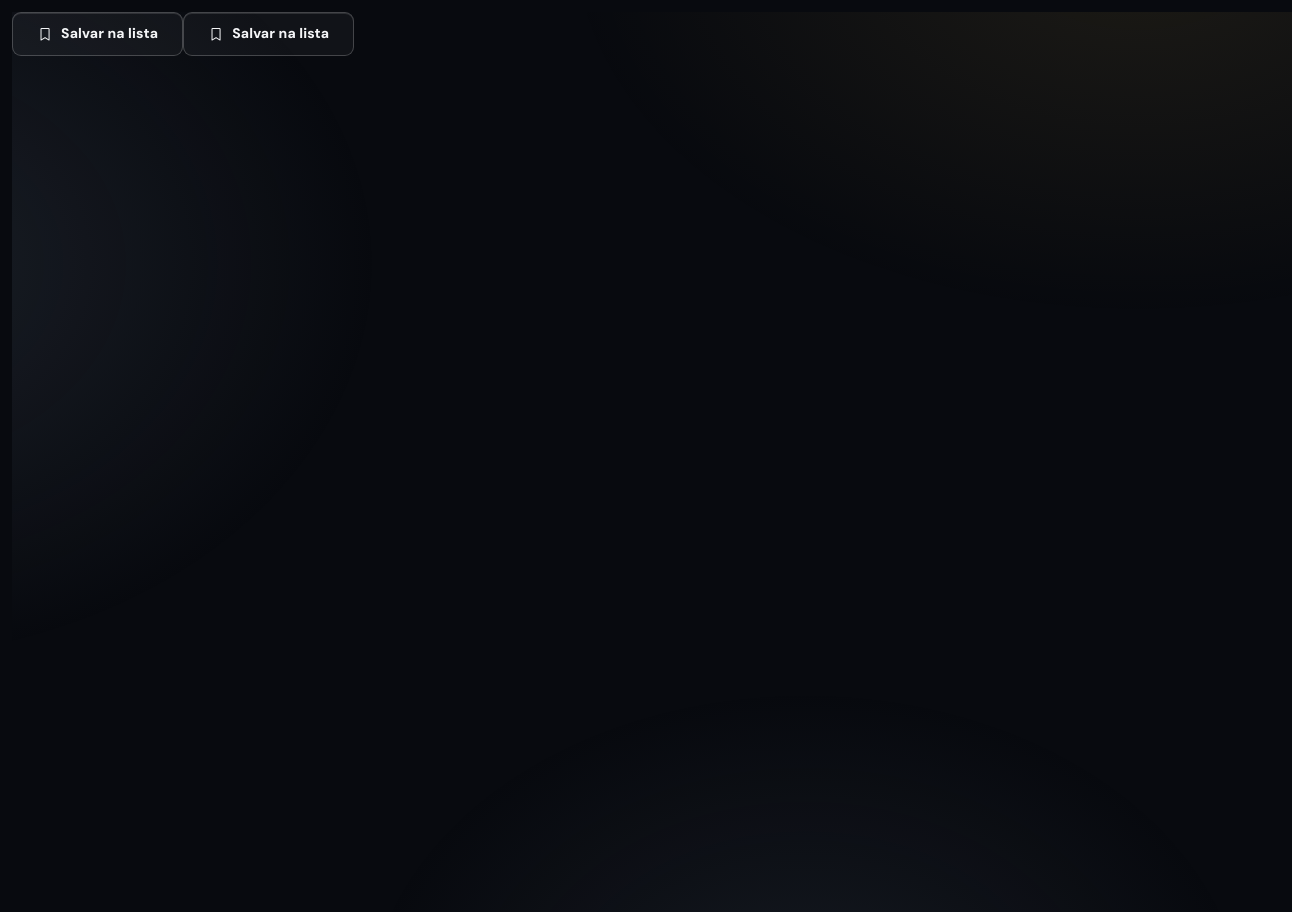
Scenario: SaveButton › salva, avisa, remove e desfaz devolvendo a lista na mesma ordem
Later steps or results of the test are not shown.
Click the 1st button "Salvar na lista" at coordinates (98, 34), box [12,12,183,56]
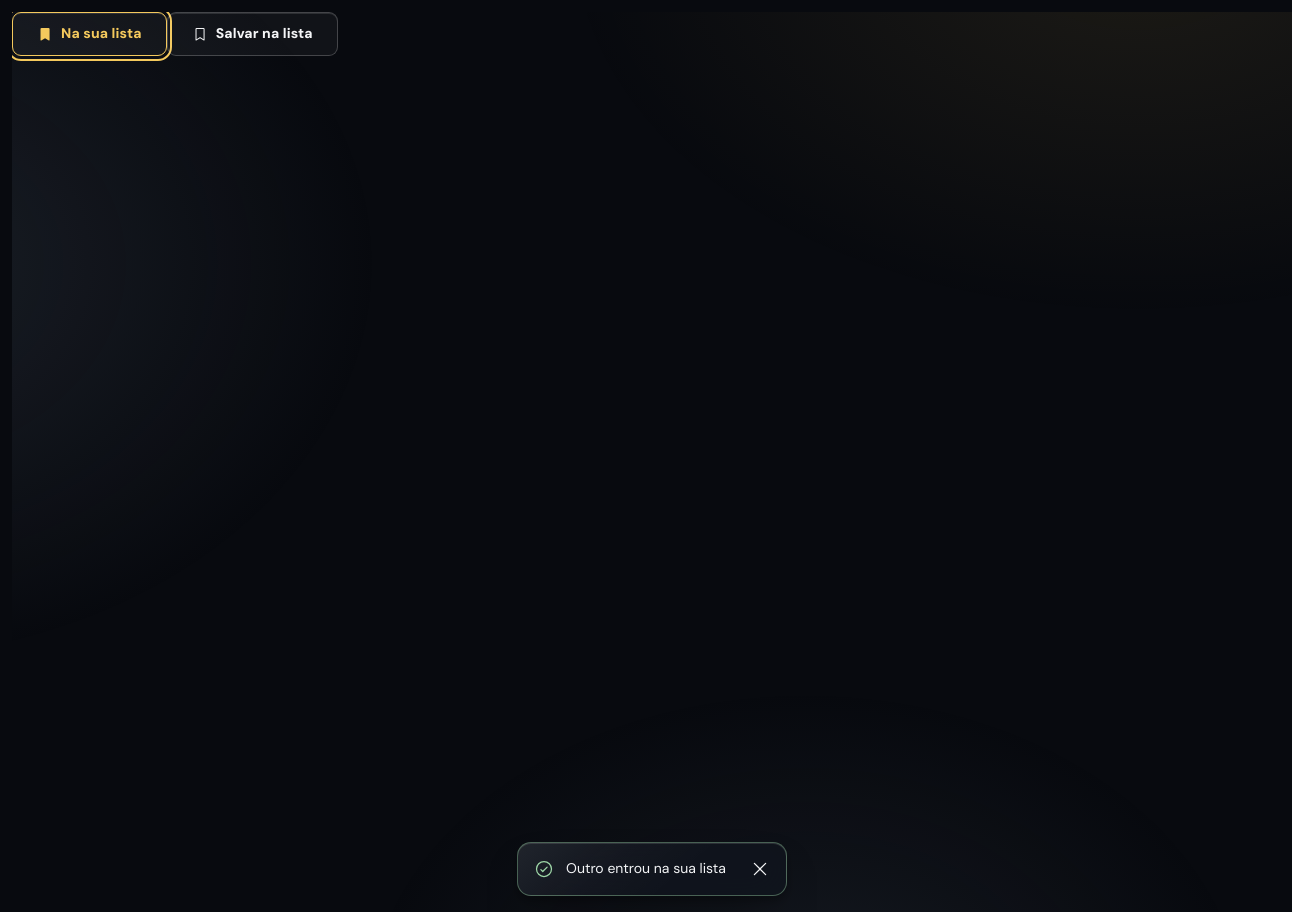
Click the button "Salvar na lista" at coordinates (252, 34), box [167,12,338,56]
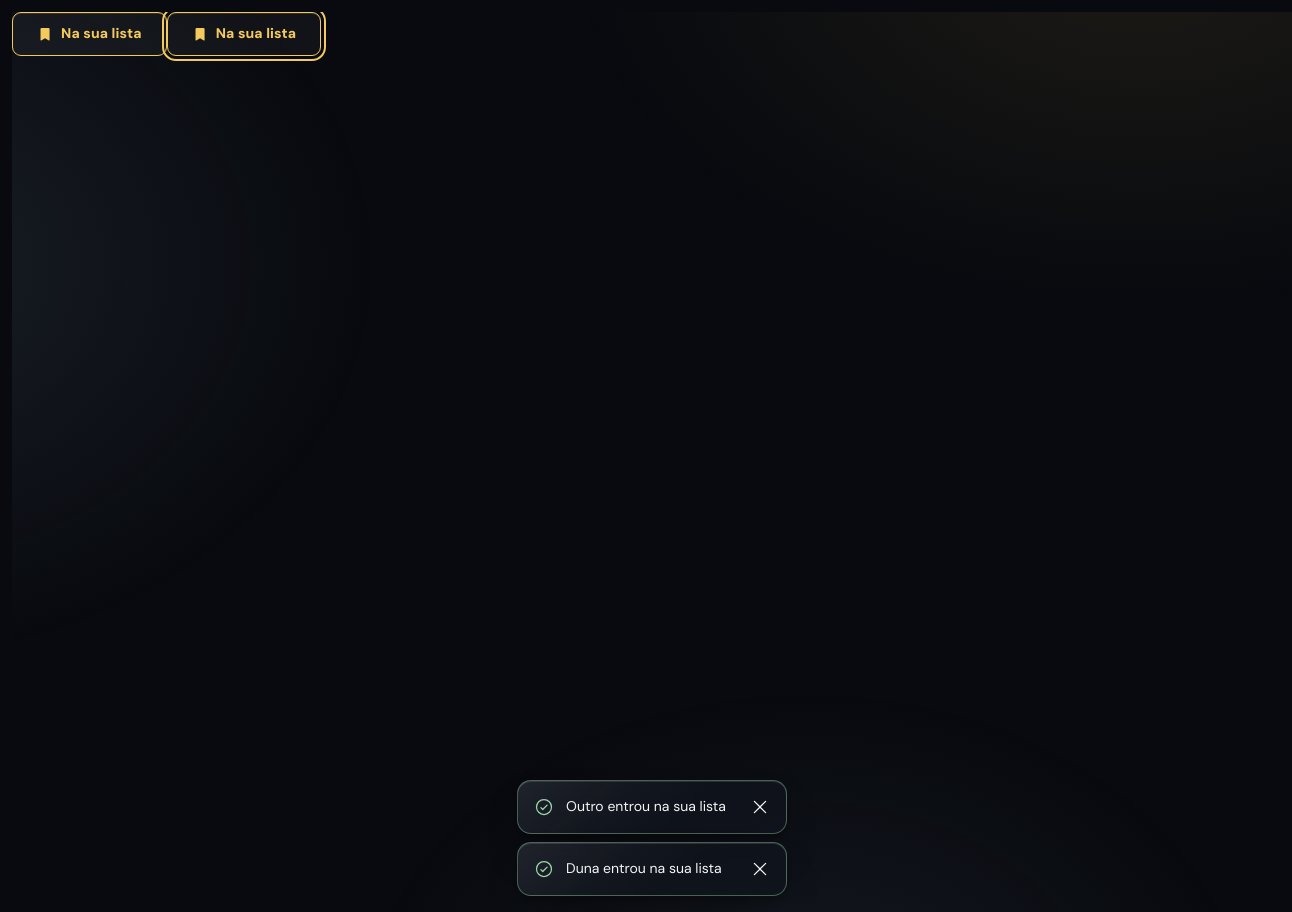
Expected: the message shows "Duna entrou na sua lista", [566,859,722,877]
Click the 2nd button "Na sua lista" at coordinates (244, 34), box [167,12,321,56]
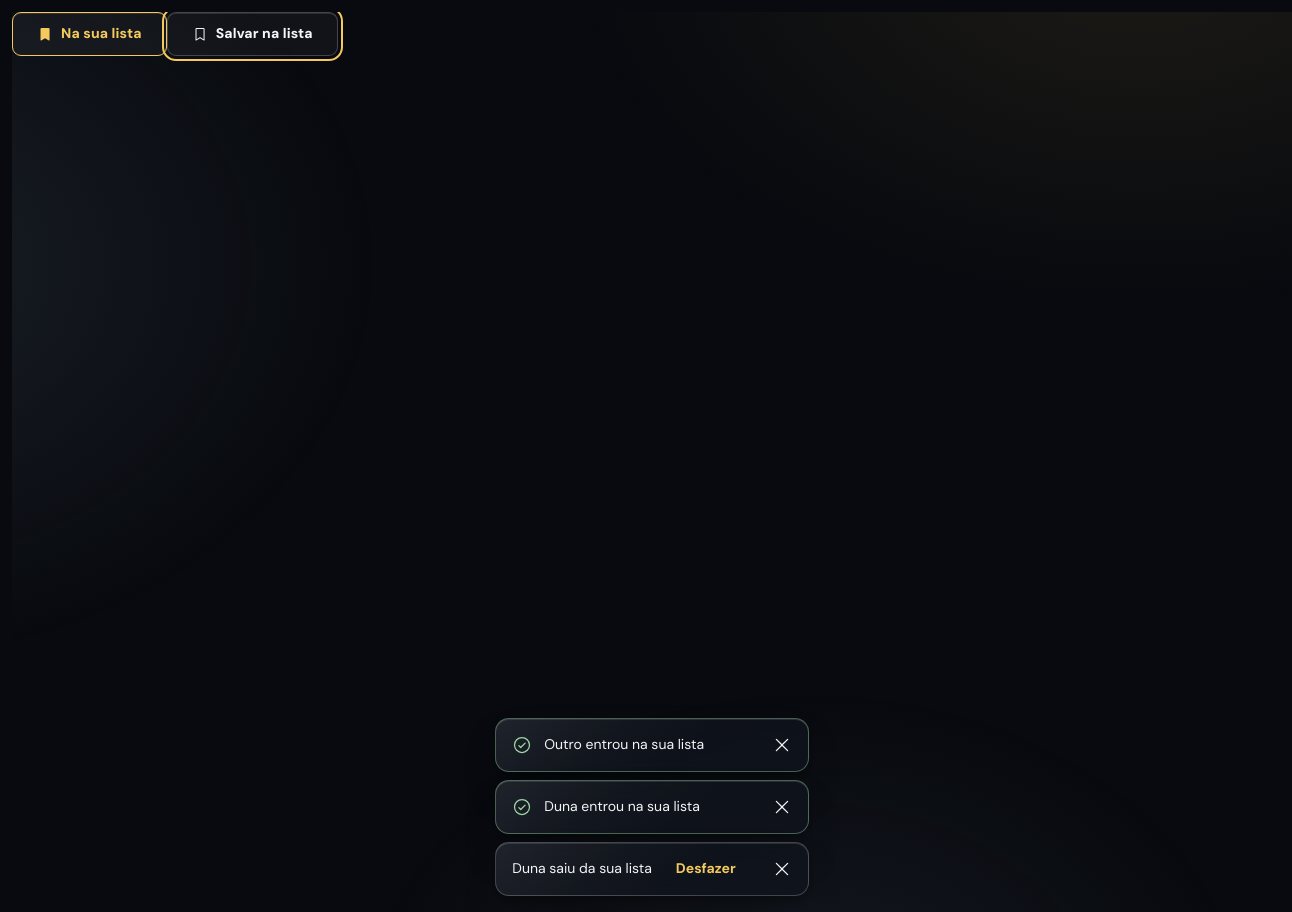
Expected: the message shows "Duna saiu da sua lista", [512,859,652,877]
